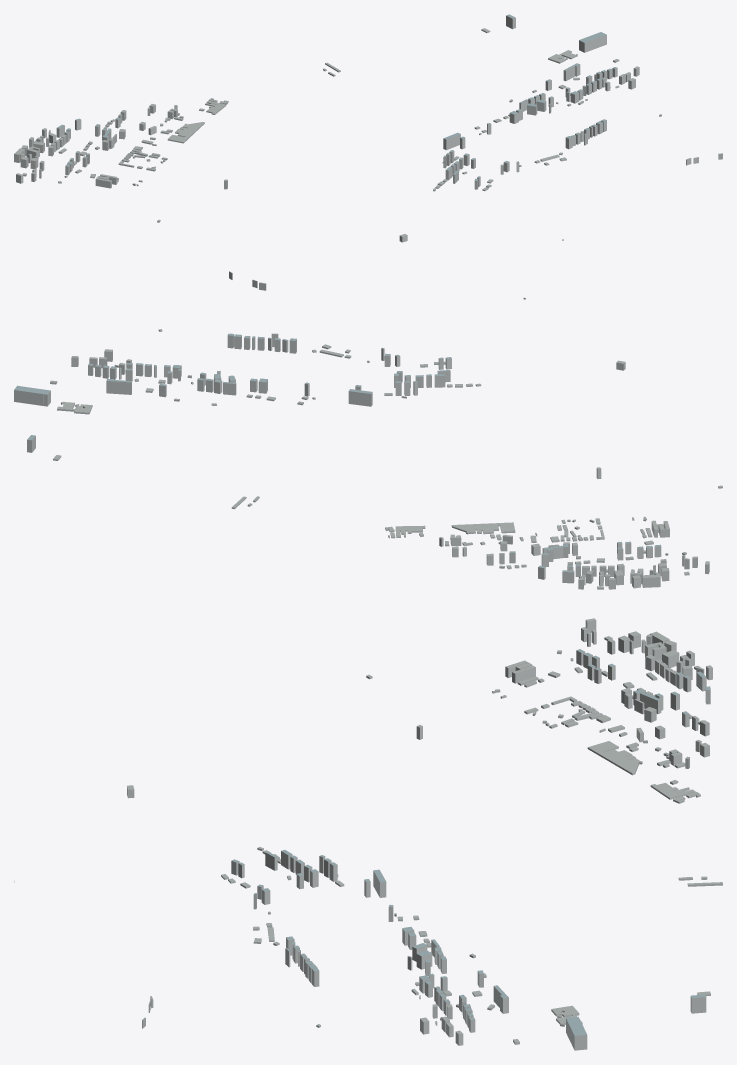
File: far.glb
3 views of the same model, one above another, from view 1: azimuth 30°, elevation 25°; view 2: azimuth 150°, elevation 25°; view 3: azimuth 270°, elevation 25° (orthographic). The views are drawn at different scales.
Size of the model in its own units: 1287 by 23.4 by 916.
